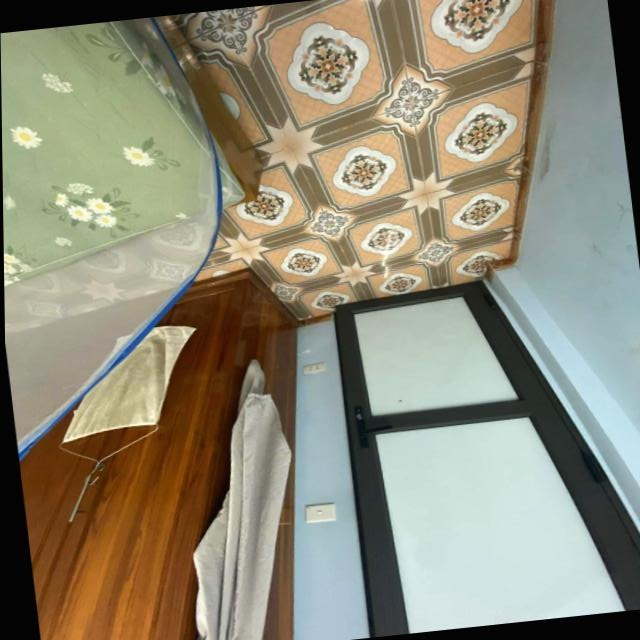outlet: (303, 361, 328, 375)
